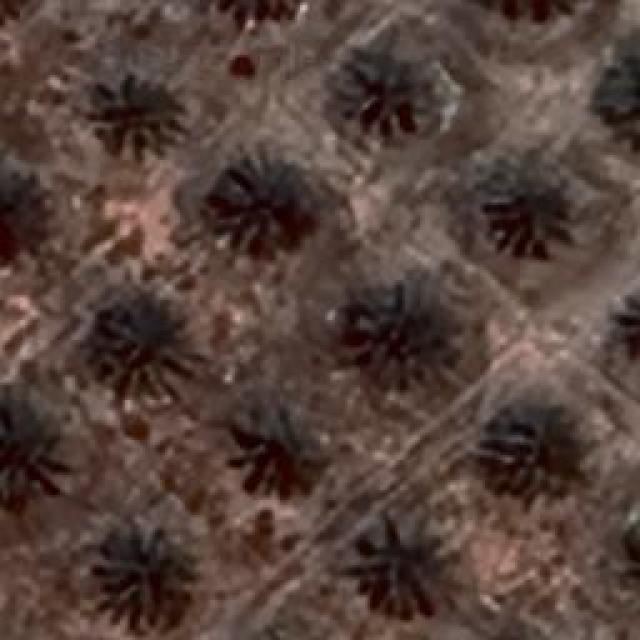PalmTree: (342, 41, 450, 141), (484, 160, 572, 282), (352, 299, 458, 399), (80, 304, 190, 394), (92, 528, 192, 622), (215, 161, 310, 254), (355, 520, 450, 612), (498, 407, 588, 495), (0, 398, 68, 512), (238, 414, 324, 498), (26, 96, 76, 213), (597, 37, 640, 151), (76, 60, 139, 111), (612, 508, 640, 608), (612, 278, 640, 369), (472, 0, 586, 21), (620, 504, 640, 602), (208, 0, 310, 19), (620, 277, 640, 365), (0, 0, 40, 28), (0, 0, 34, 24)
